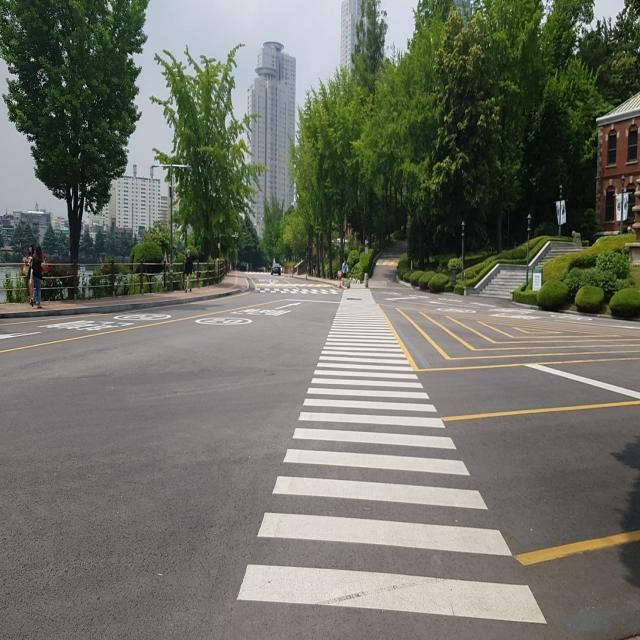횡단보도: (235, 288, 547, 625)
